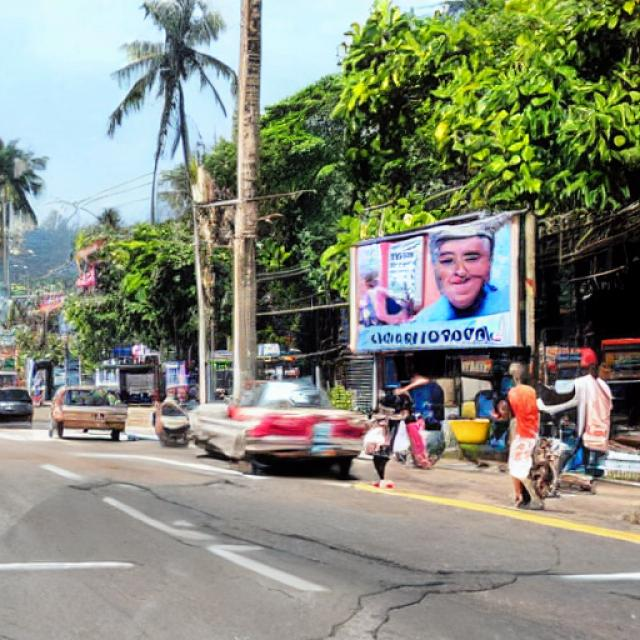Billboard: (345, 206, 538, 354)
